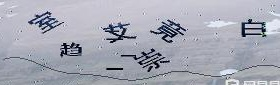chinese: (235, 15, 269, 42), (154, 19, 186, 47), (133, 51, 170, 75), (29, 11, 63, 34), (102, 20, 130, 46), (56, 39, 81, 60)
